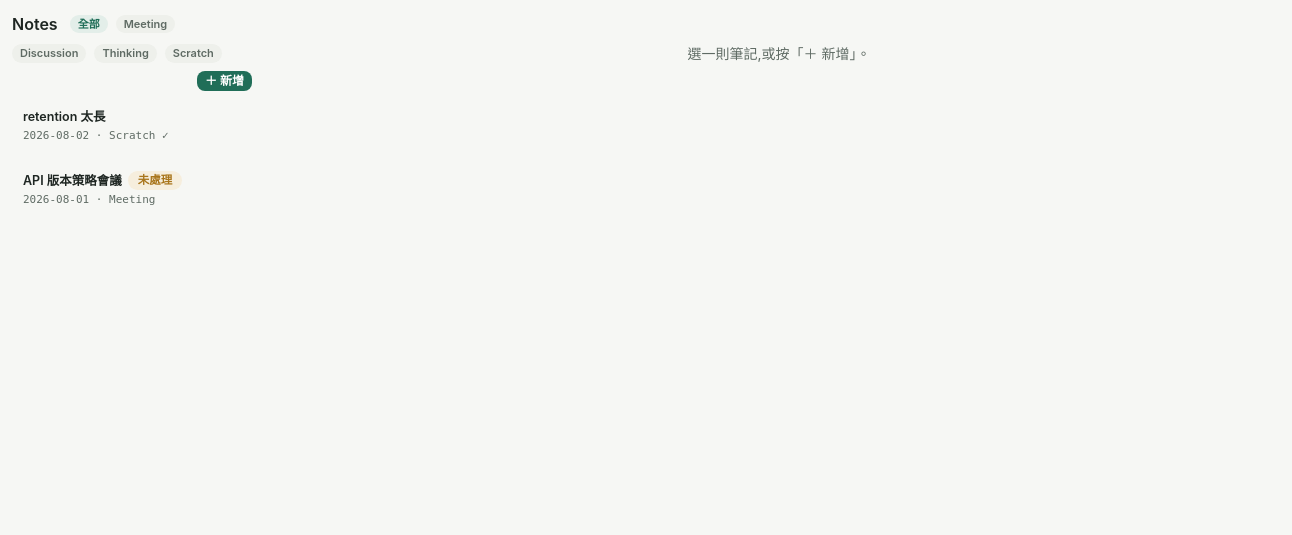
Test case: Notes › creates a Meeting note and navigates to it
Expected: the text "API 版本策略會議" is shown, x1=23 y1=173 x2=122 y2=188
Click the button "＋ 新增": (224, 81) x1=197 y1=71 x2=252 y2=91
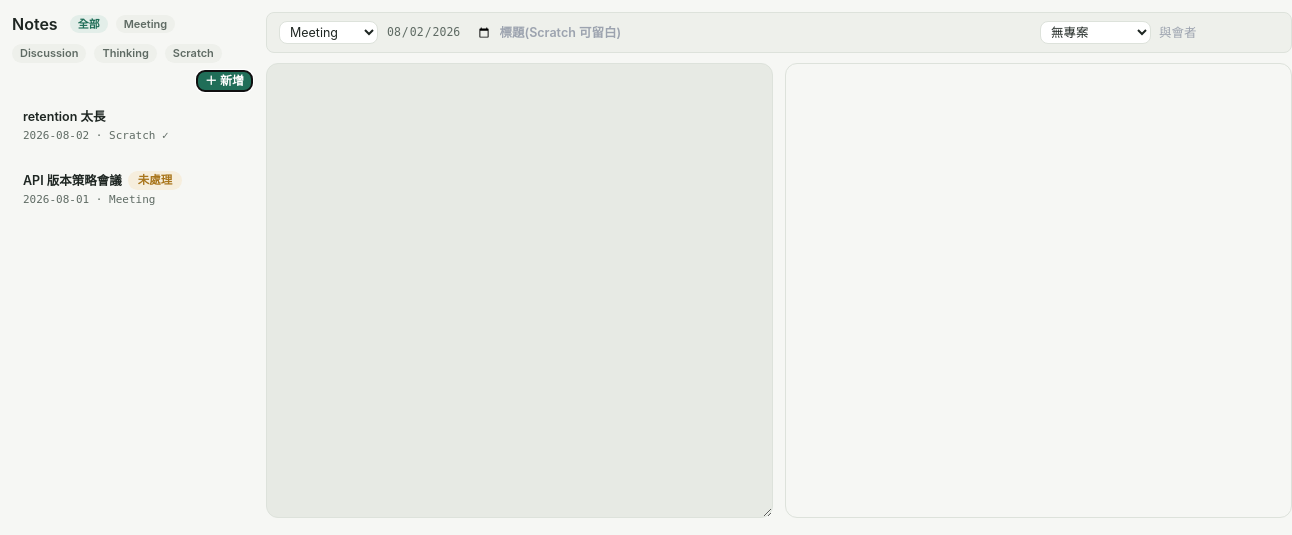
Expected: the text box named "內文" is shown, x1=266 y1=63 x2=773 y2=518
Expected: the dropdown named "類型" shows "Meeting", x1=279 y1=21 x2=378 y2=44
